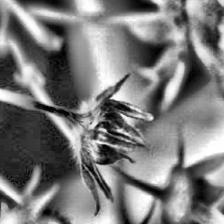Gray Mold: (27, 74, 157, 215)
